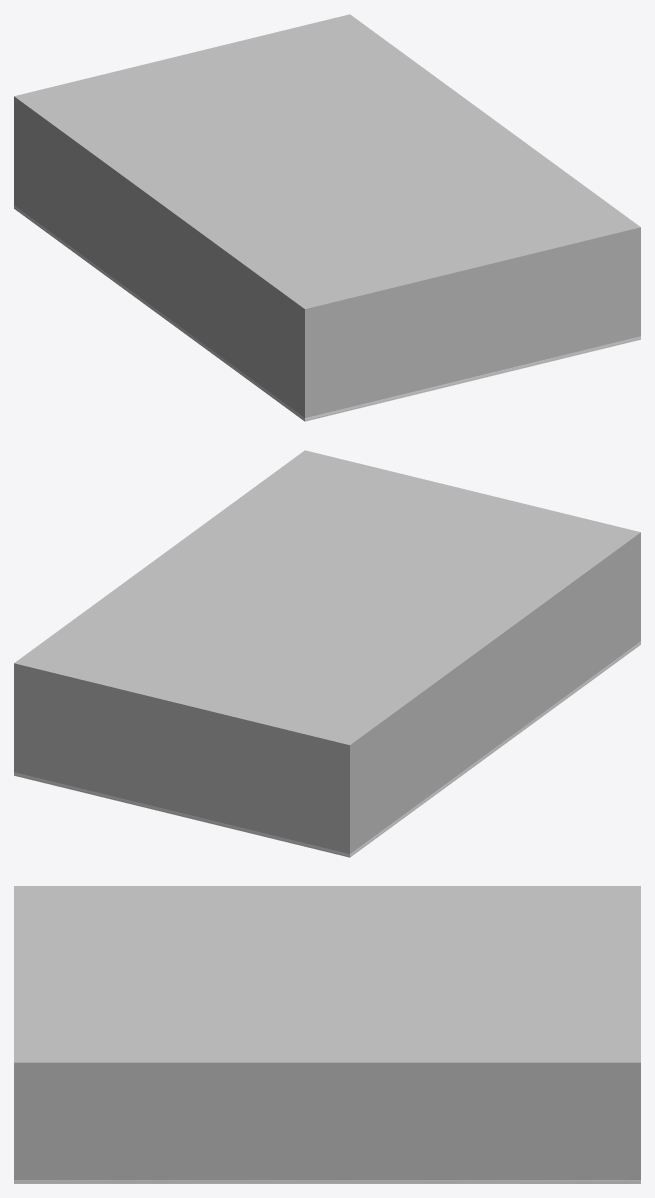
3 renders of one model, top to bottom at view 1: azimuth 30°, elevation 25°; view 2: azimuth 150°, elevation 25°; view 3: azimuth 270°, elevation 25°, orthographic. The views are drawn at different scales.
Visible parts, largest first — view 1: Roof_Cube.002, Wall_Cube, Floor_Cube.001; view 2: Roof_Cube.002, Wall_Cube, Floor_Cube.001; view 3: Roof_Cube.002, Wall_Cube, Floor_Cube.001.
Part boxes in pixels (box(x1,y1,x2,y2)): Roof_Cube.002: box(14, 14, 640, 312); Wall_Cube: box(14, 100, 640, 417); Floor_Cube.001: box(14, 205, 640, 421); Roof_Cube.002: box(14, 450, 640, 748); Wall_Cube: box(14, 536, 640, 853); Floor_Cube.001: box(14, 641, 640, 857); Roof_Cube.002: box(14, 886, 640, 1066); Wall_Cube: box(14, 1066, 640, 1179); Floor_Cube.001: box(14, 1180, 640, 1183).
Bounding box in the file's own units: 10 × 3.2 × 15.
